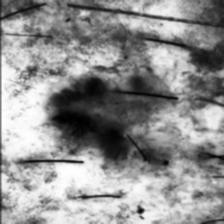Potentially Malignant Skin Tumors: (48, 70, 142, 160)
